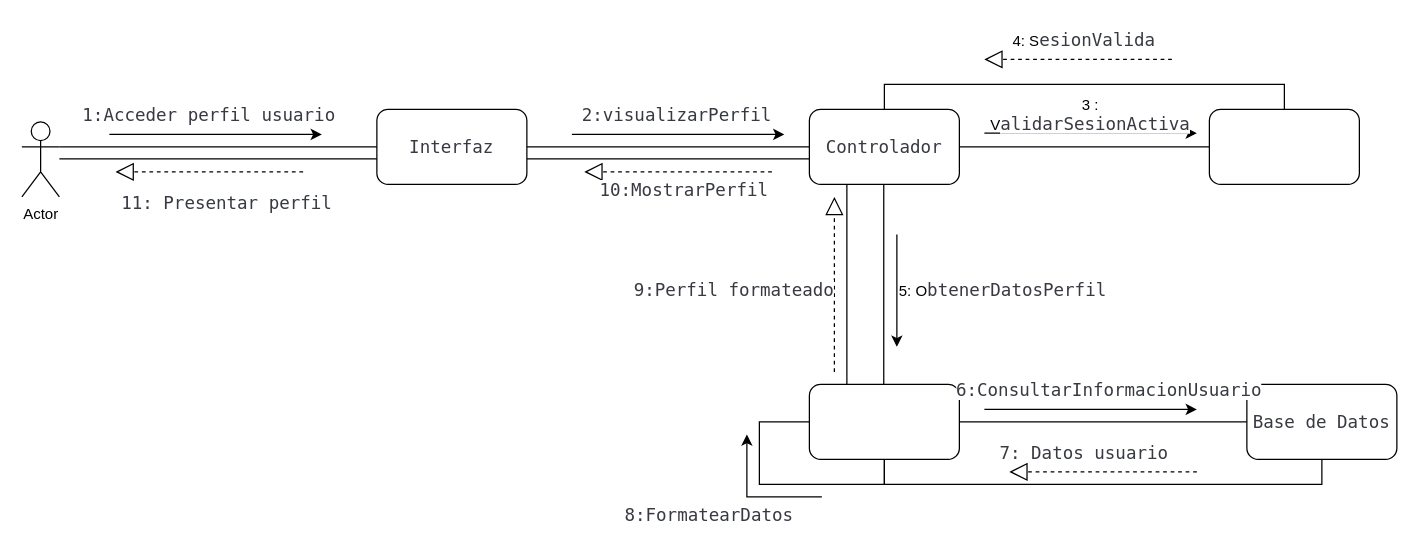
Image size: 1419x555. Some labels were removed from this diagram. The shapes that lost their labels are listed below. From the top down, each one's box as (x1, y1, x2, y2) in pixels, then its label:
(1208, 108, 1359, 184): ValidadorSesion
(808, 383, 959, 459): GestorPerfil
